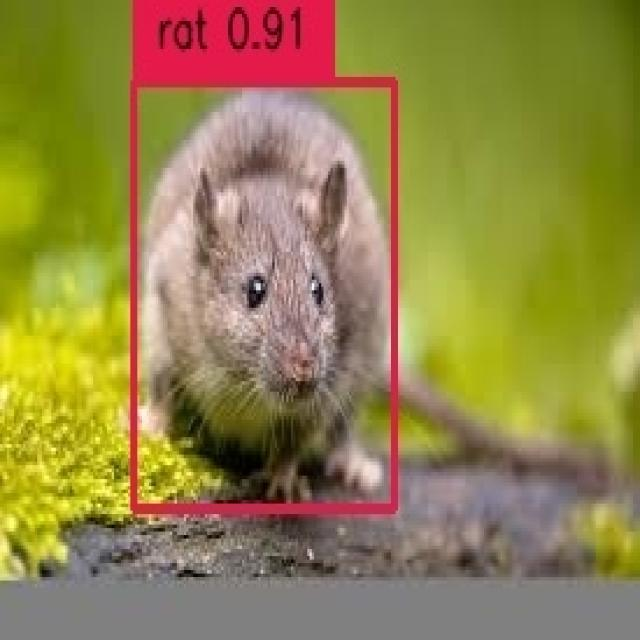rat: (130, 77, 391, 504)
